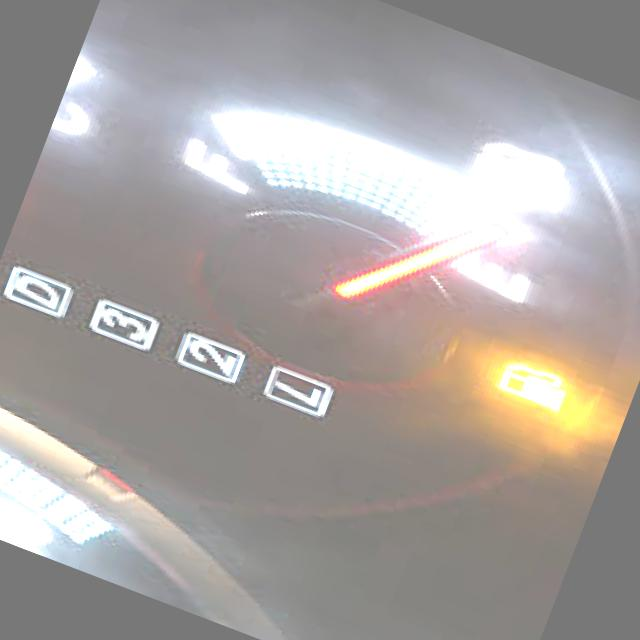kontrolka: (479, 341, 591, 428)
